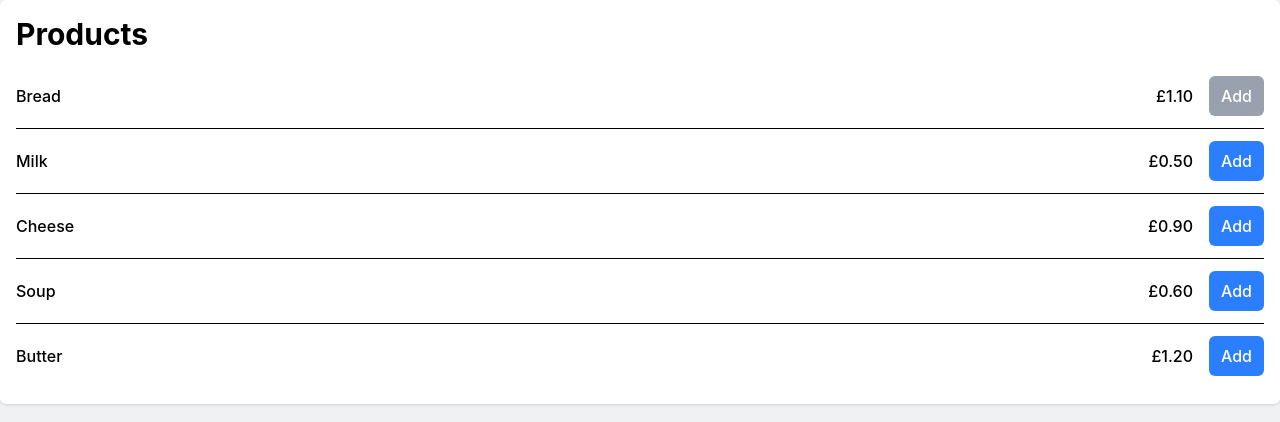
Test: <ProductList /> › disables Add button for products already in cart
Expected: the text "Bread" is shown, [16,86,61,106]
Expected: the button "Add" next to "£1.10" is disabled, [1209,76,1264,116]
Note: Clicking enabled button should disable it (since it gets added)
Click the button "Add" next to "£0.50".
click(1236, 161)  # box [1209,141,1264,181]
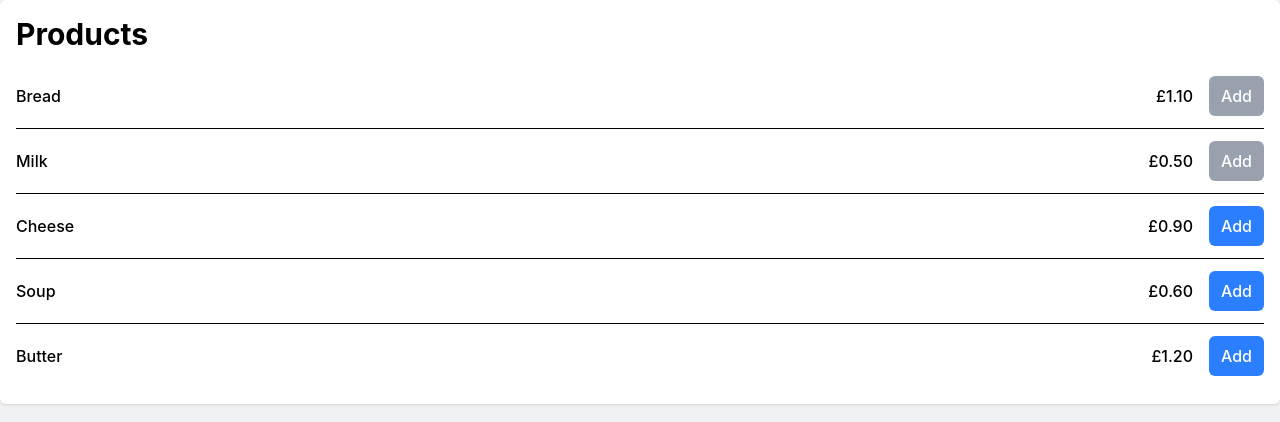
Expected: the button "Add" next to "£1.10" is shown, [1209,76,1264,116]
Now the button "Add" next to "£0.50" is disabled, box [1209,141,1264,181]
